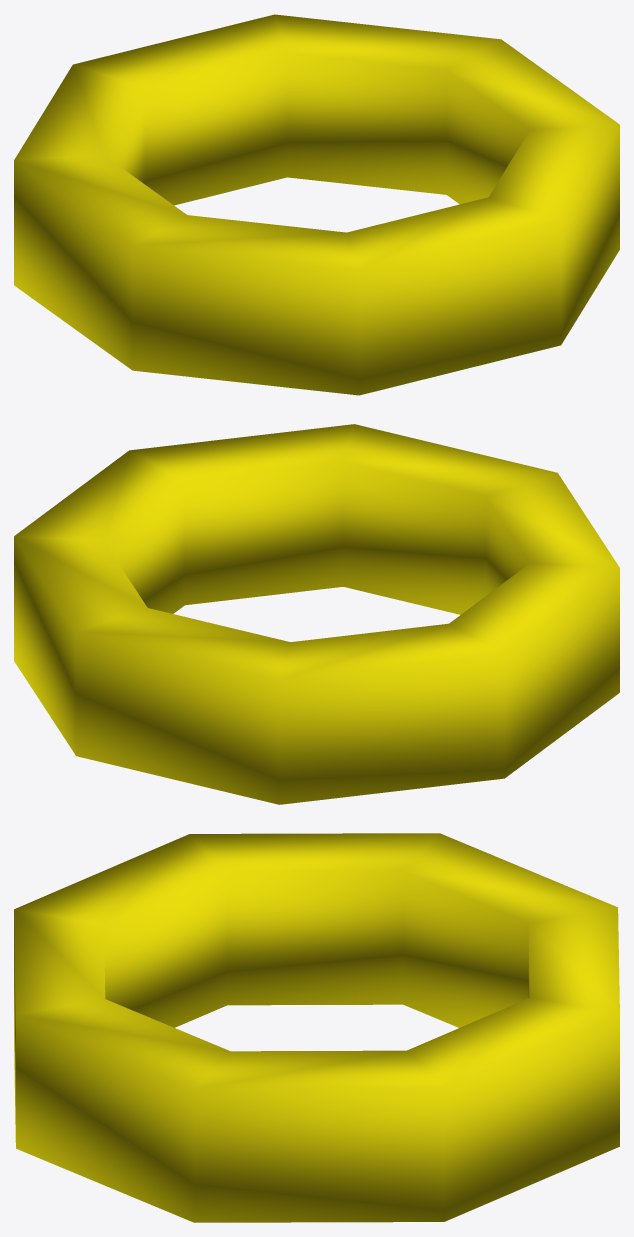
The model's file is key_loop.glb.
3 renders of one model, top to bottom at view 1: azimuth 30°, elevation 25°; view 2: azimuth 150°, elevation 25°; view 3: azimuth 270°, elevation 25°, orthographic. The views are drawn at different scales.
Visible parts, largest first — view 1: key_loop; view 2: key_loop; view 3: key_loop.
Part boxes in pixels (x1=…): key_loop: x1=14, y1=14, x2=619, y2=395; key_loop: x1=14, y1=424, x2=619, y2=804; key_loop: x1=14, y1=833, x2=619, y2=1222.
Bounding box in the file's own units: 0.2509 × 0.061 × 0.2509.
